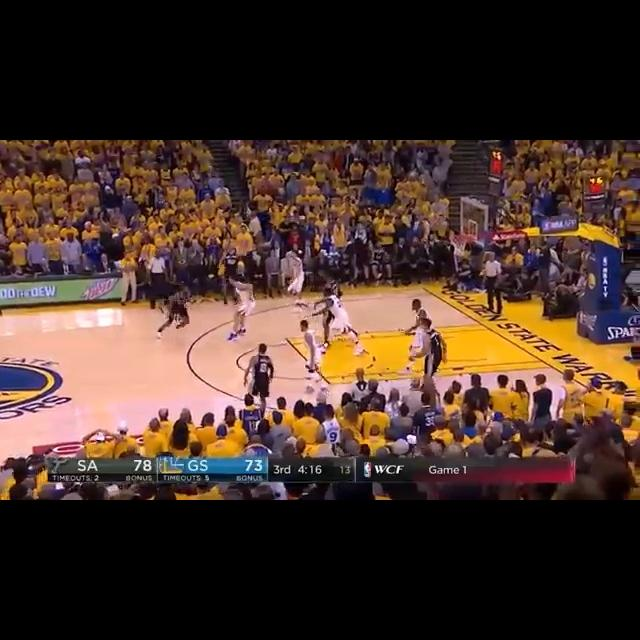hoop: (448, 231, 473, 259)
